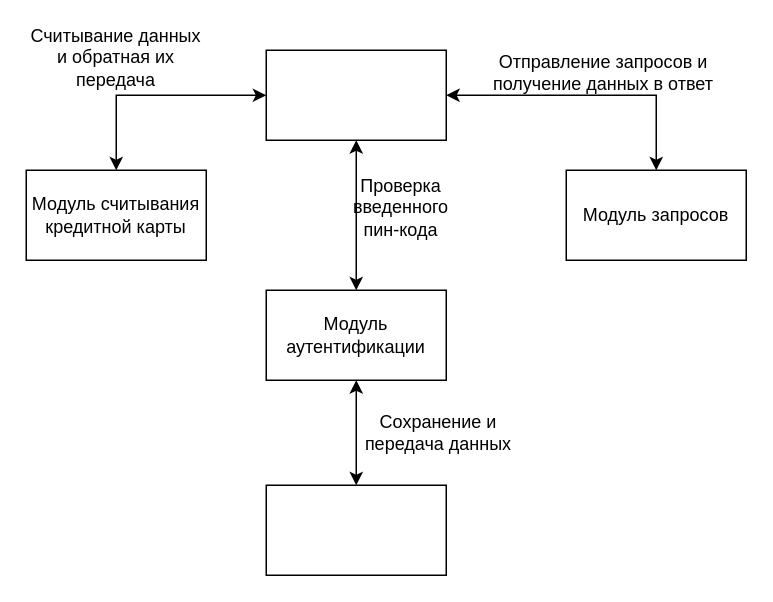
The diagram is 773 pixels wide and 602 high, and some of its shapes have lost their labels. Each missing label, with the centre of its shape:
Головной модуль: (x=355, y=94)
Модуль данных кредитной карты: (x=355, y=529)
